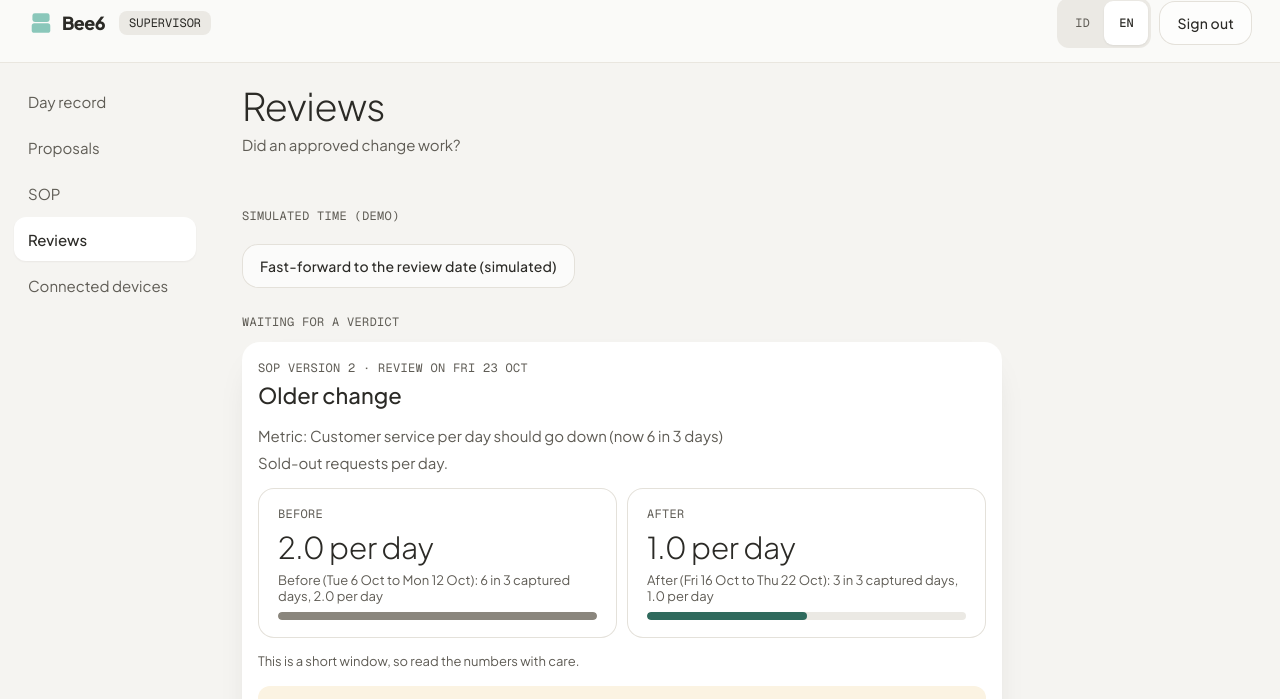
Test: ReviewsApp: a fast-forward result without an explanation › flag on and the new review has an explanation: no notice
Click the button "Fast-forward to the review date (simulated)" at (408, 266), box 242,244 -> 575,288
(page scrolled)
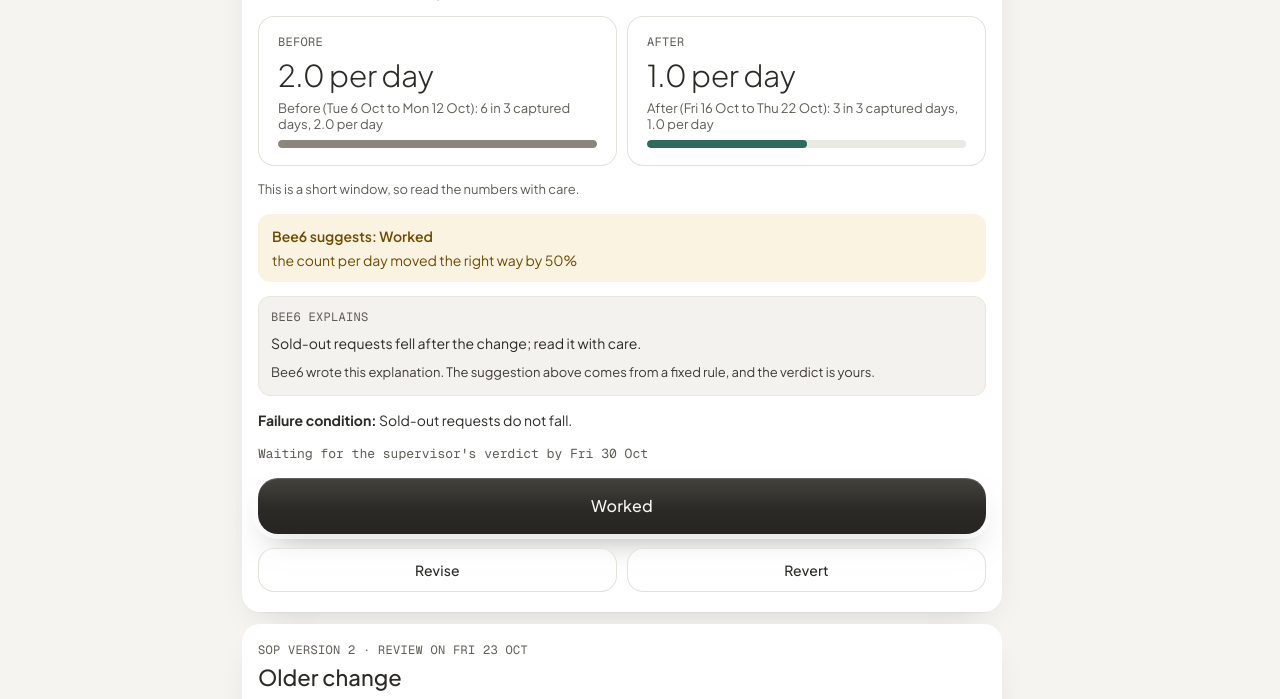
Result: the text "Sold-out requests fell after the change; read it with care." is shown at 271,334 -> 641,352
